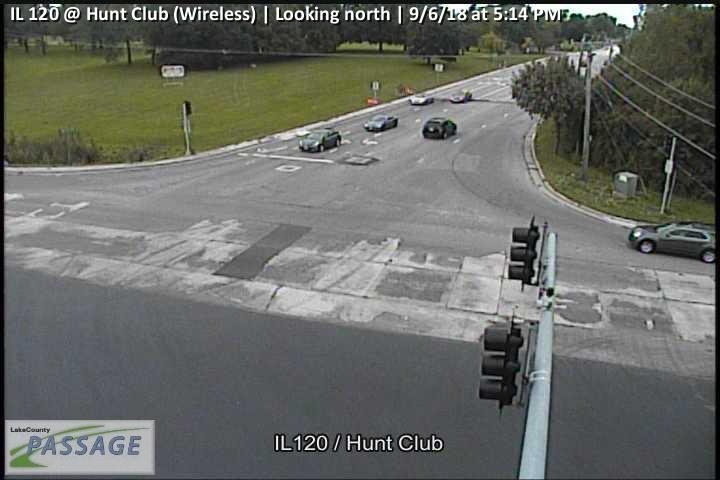Sedan: (626, 220, 719, 264), (297, 128, 341, 154), (421, 116, 457, 140), (363, 113, 399, 132), (445, 88, 473, 103), (408, 94, 434, 106)
